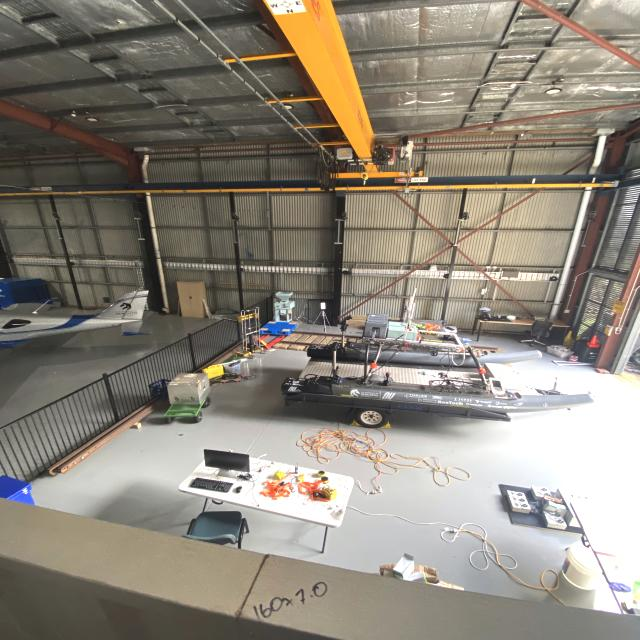matrix: (320, 302, 327, 310)
